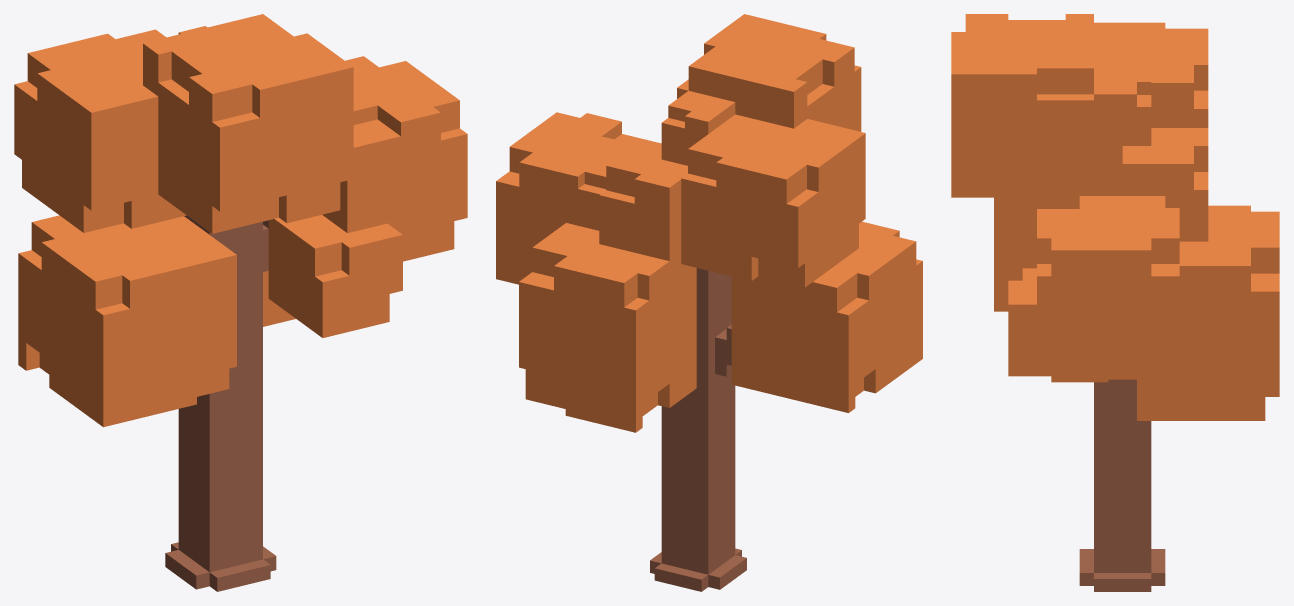
The model's file is tree3.vox.obj.
3 views of the same model, side by side, from view 1: azimuth 30°, elevation 25°; view 2: azimuth 150°, elevation 25°; view 3: azimuth 270°, elevation 25° (orthographic). The views are drawn at different scales.
Bounding box in the file's own units: 2.9 × 4 × 2.3.
1 material, 1 textured.
